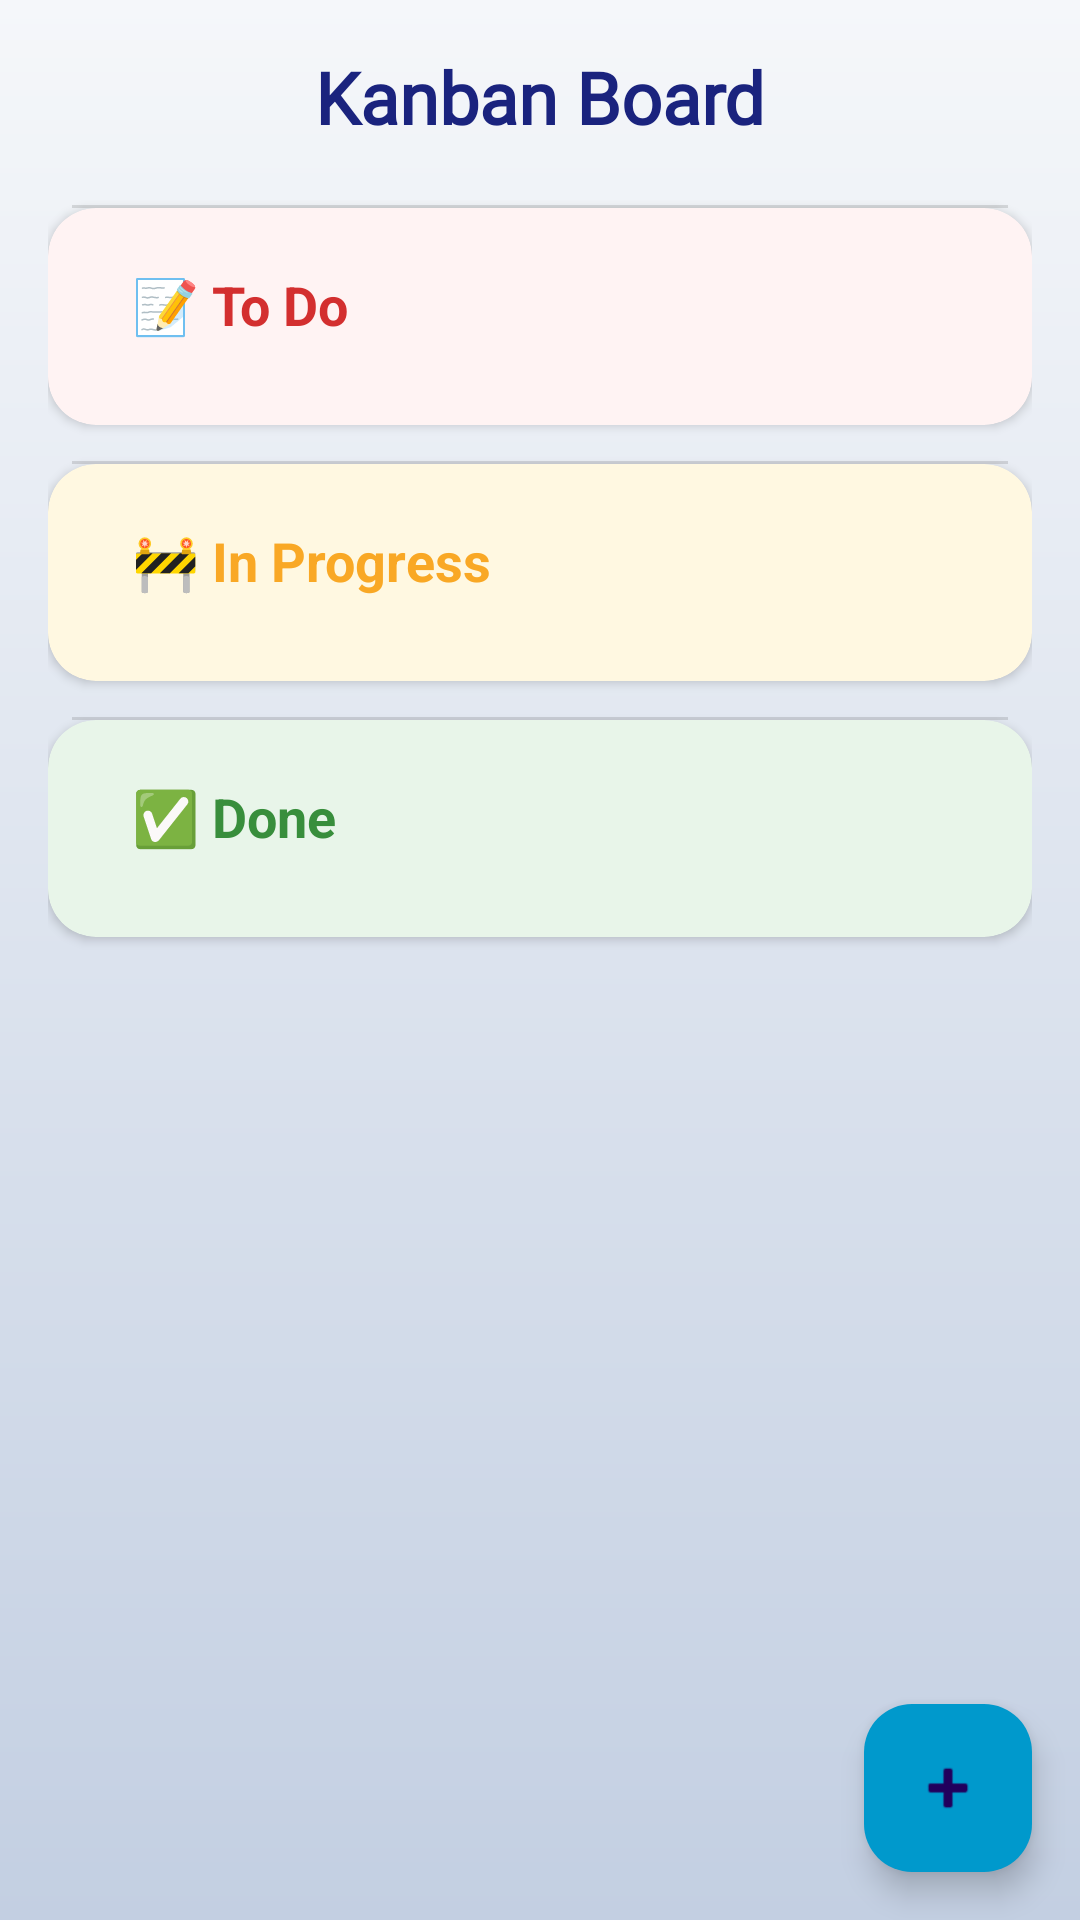

Screen size 1080w x 1920h. Icon name, then its box in pixels as region(x1, y1, x2, y2):
Adaugă task: region(864, 1704, 1032, 1872)
